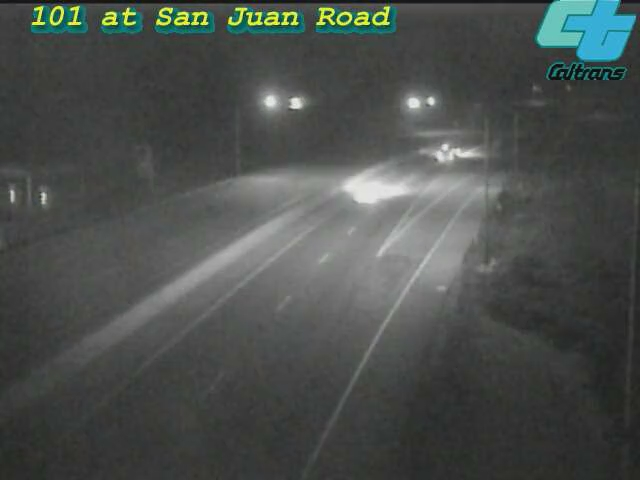vehicle: (411, 111, 491, 191), (333, 151, 413, 231)
